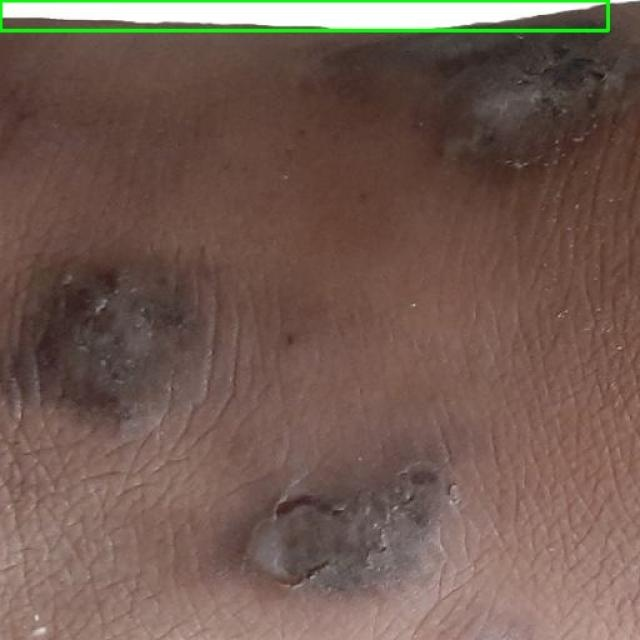Contact Dermatitis: (0, 0, 608, 30)
